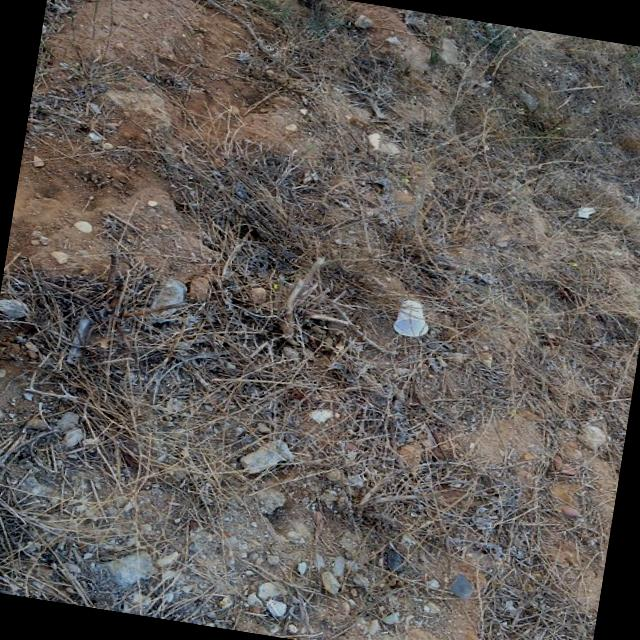Trash: (382, 296, 467, 346)
